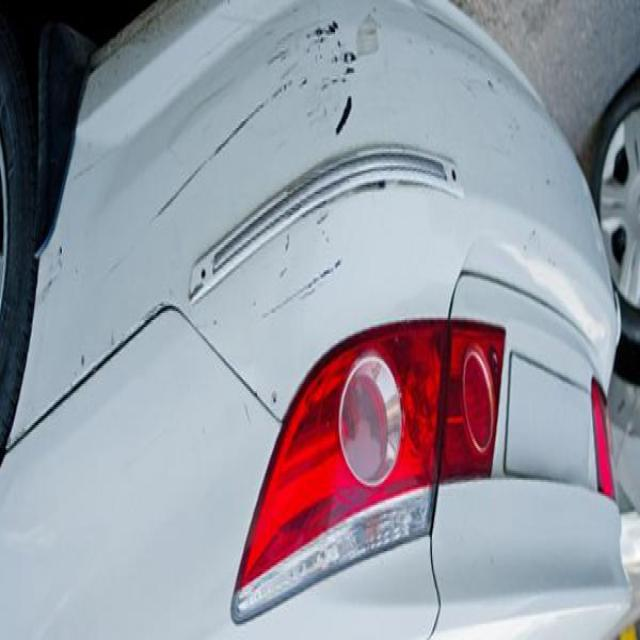scratch: (170, 66, 297, 186), (252, 242, 343, 332)
